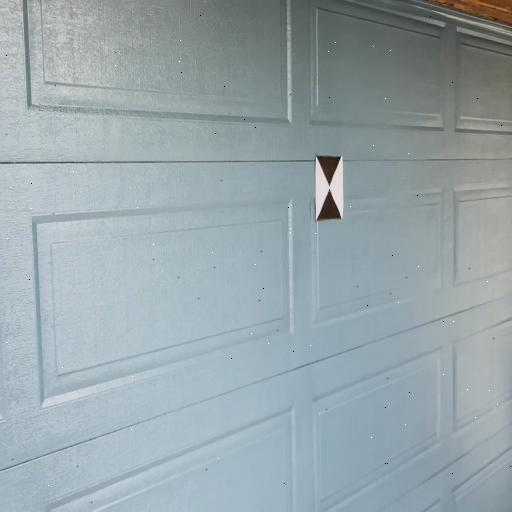target: (316, 156, 344, 219)
